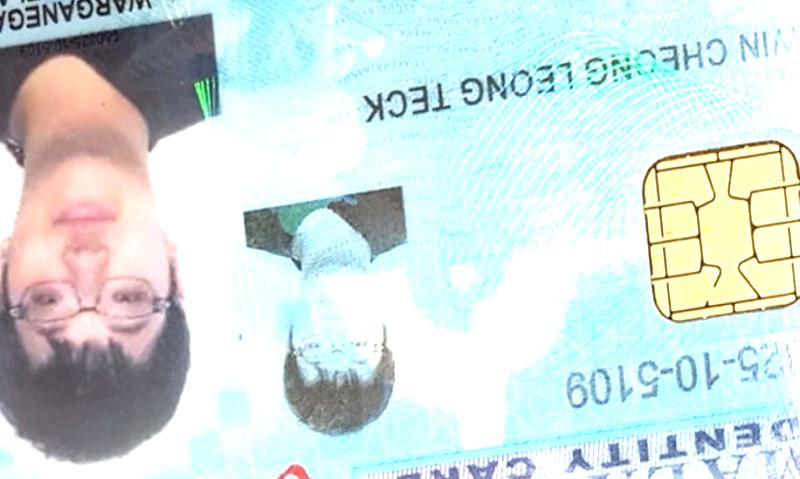hologram: (454, 100, 633, 325)
